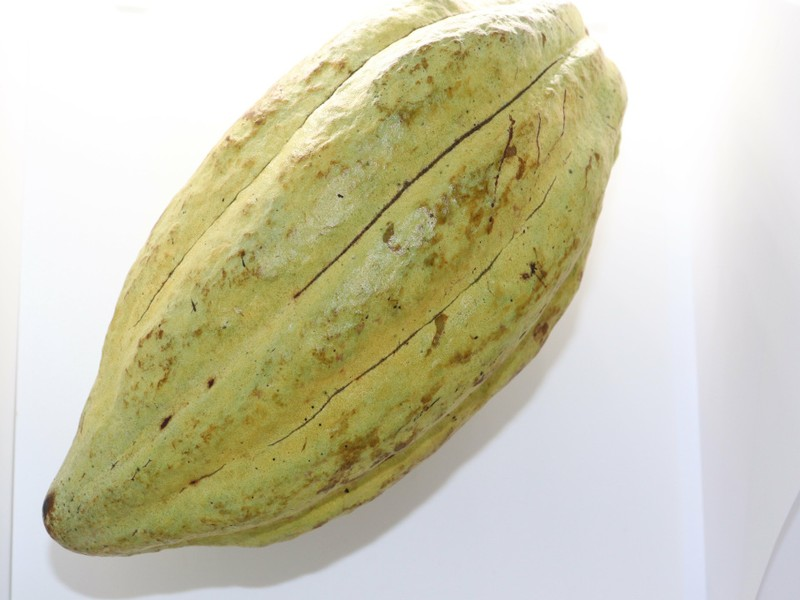Cacaopod: (45, 3, 627, 557)
